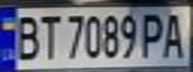0: (81, 11, 103, 61)
7: (60, 11, 84, 61)
8: (103, 11, 121, 60)
9: (118, 10, 142, 60)
A: (157, 9, 190, 60)
B: (9, 11, 42, 61)
P: (139, 10, 169, 60)
T: (33, 11, 60, 61)
